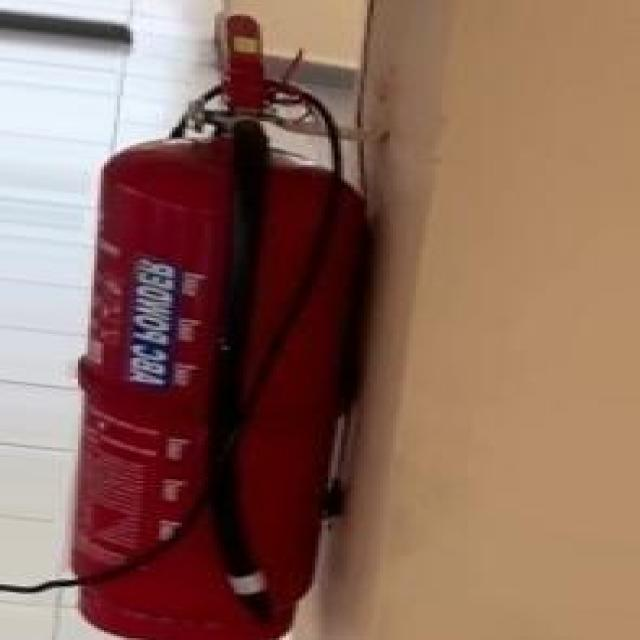fire_extinguisher: (59, 8, 393, 638)
